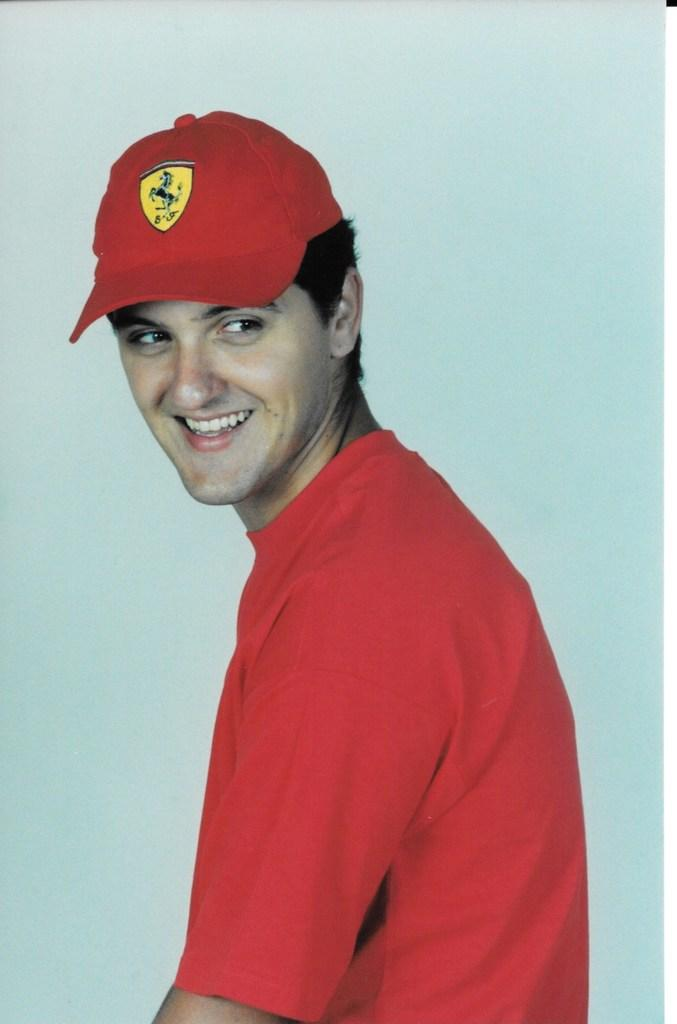Hat: (66, 105, 355, 348)
